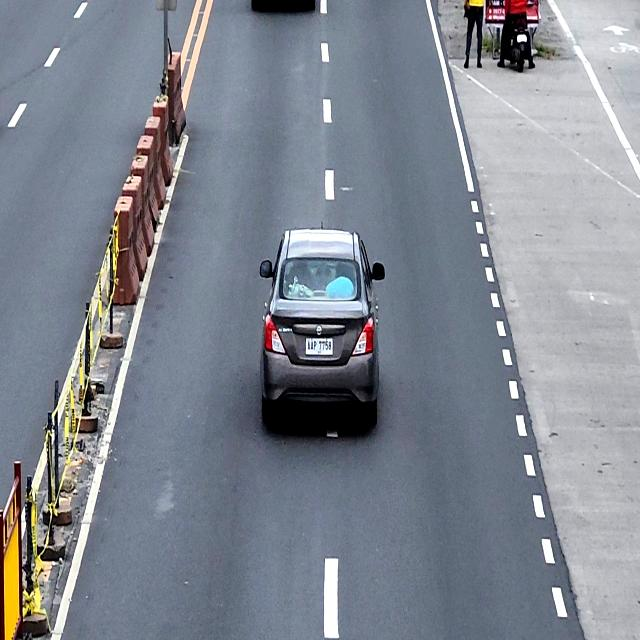Car: (261, 226, 386, 438)
License-Plate: (304, 336, 334, 356), (516, 34, 527, 44)
Motorcycle: (506, 0, 530, 74)
